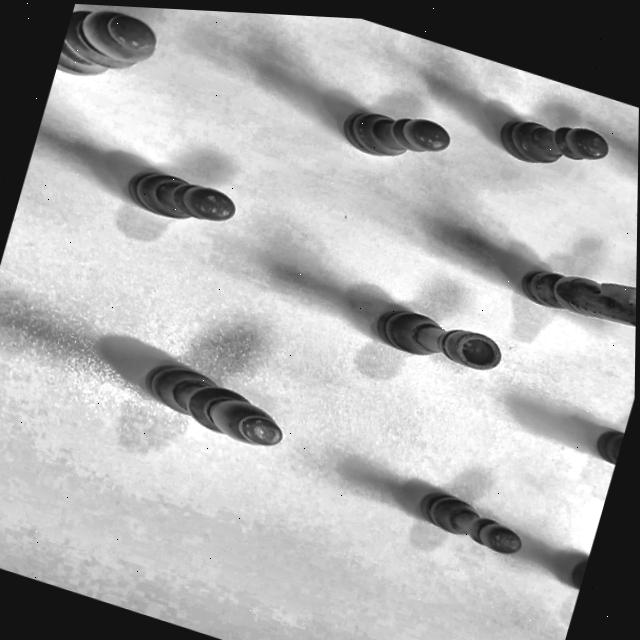black-bishop: (113, 343, 317, 465), (51, 3, 207, 124)
black-knight: (483, 236, 637, 353)
black-pawn: (371, 461, 553, 579), (98, 139, 262, 258), (313, 82, 472, 202), (473, 89, 630, 209)
black-rook: (346, 284, 511, 395)
